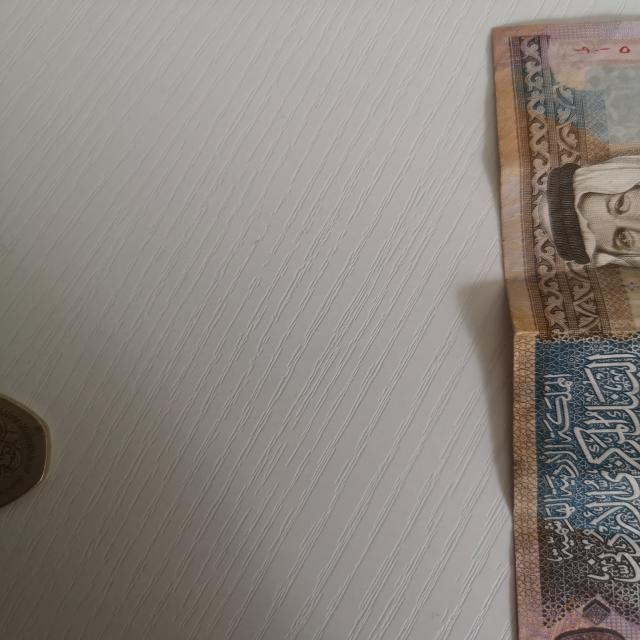25-coins: (0, 394, 47, 512)
50-dinar: (492, 20, 640, 640)
